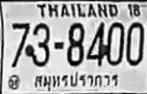0: (125, 21, 143, 65), (107, 21, 123, 65)
3: (33, 23, 50, 67)
4: (86, 21, 105, 66)
7: (11, 22, 29, 67)
8: (66, 22, 84, 65)
SPK: (28, 70, 121, 91)
